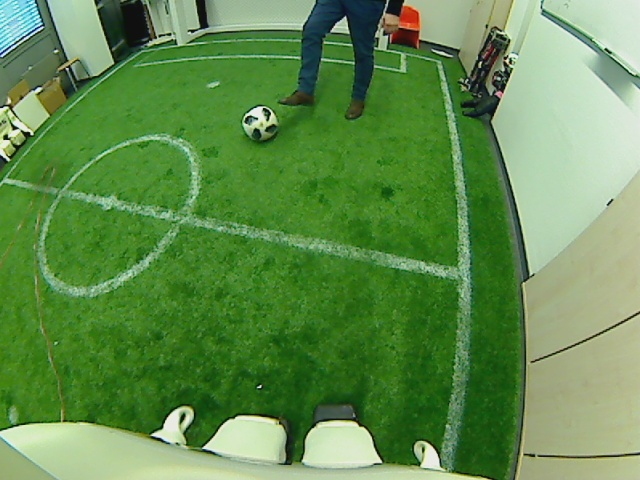ball: (240, 103, 279, 143)
